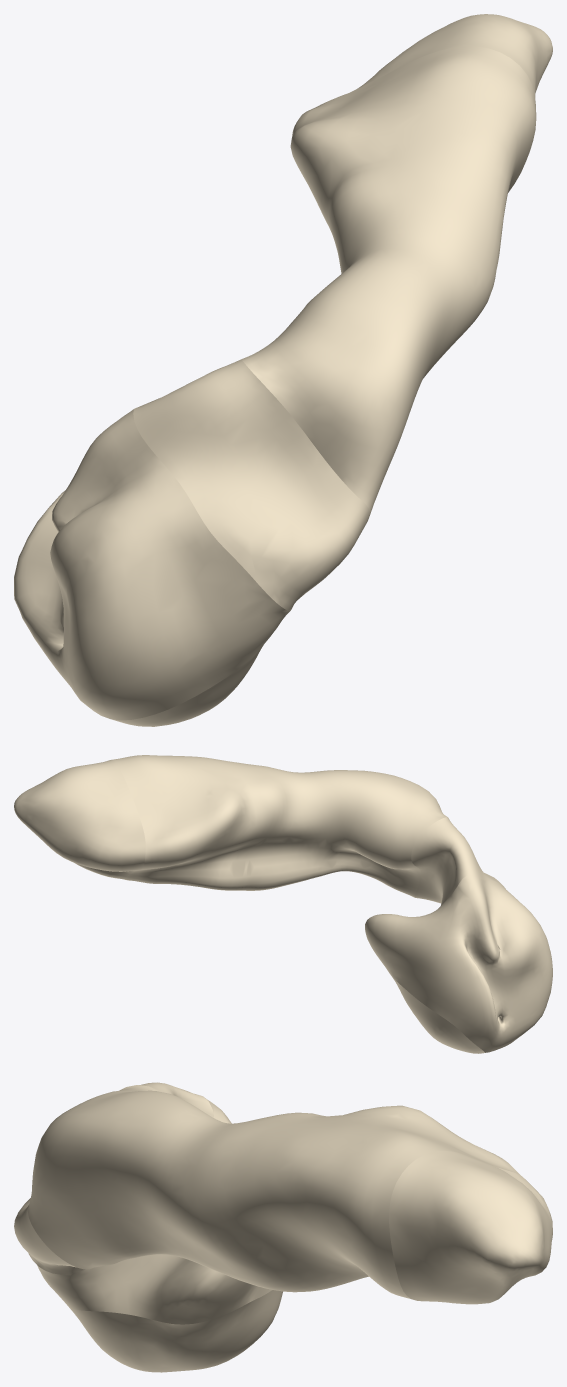
Rendered from pancreas.glb.
3 views of the same model, one above another, from view 1: azimuth 30°, elevation 25°; view 2: azimuth 150°, elevation 25°; view 3: azimuth 270°, elevation 25° (orthographic). The views are drawn at different scales.
Visible parts, largest first — view 1: VH_M_body_of_pancreas; view 2: VH_M_body_of_pancreas; view 3: VH_M_body_of_pancreas.
Boxes of the visible parts, x1,y1,x2,y2 form: VH_M_body_of_pancreas: [14, 14, 552, 726]; VH_M_body_of_pancreas: [14, 755, 552, 1053]; VH_M_body_of_pancreas: [14, 1082, 552, 1372].
Size of the model in its own units: 0.1115 by 0.072 by 0.0836.
